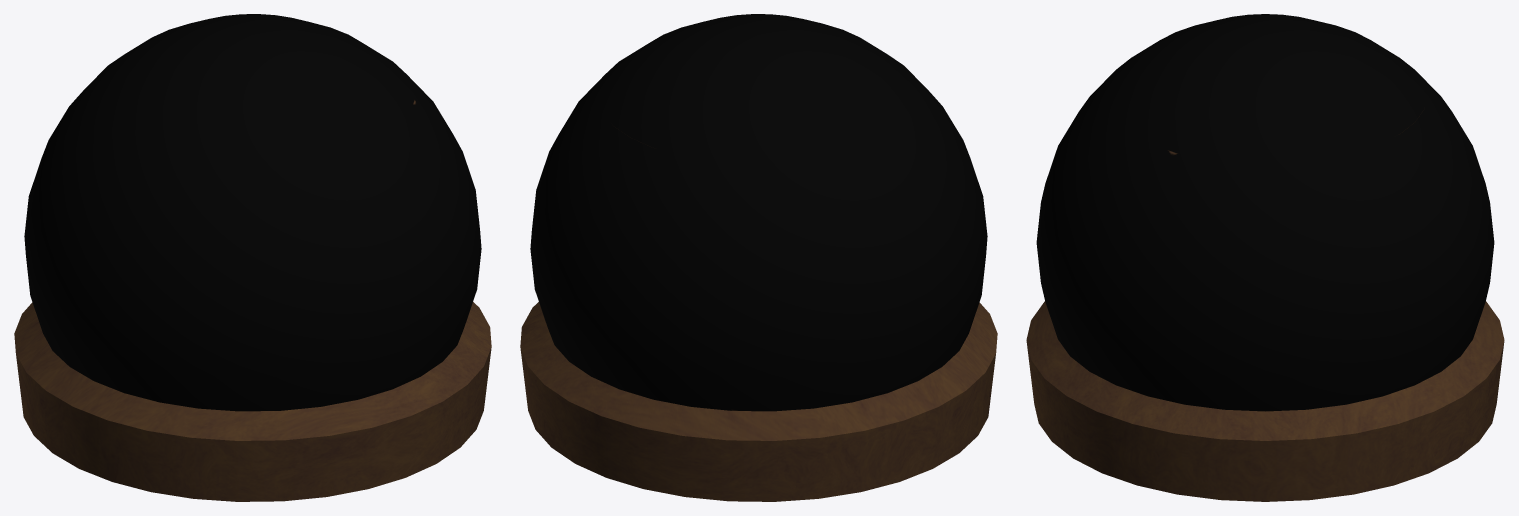
Rendered from snowg 1.fbx.
3 views of the same model, side by side, from view 1: azimuth 30°, elevation 25°; view 2: azimuth 150°, elevation 25°; view 3: azimuth 270°, elevation 25° (orthographic).
Parts seen in each view (by area): view 1: Sphere; view 2: Sphere; view 3: Sphere.
Boxes of the visible parts, x1,y1,x2,y2 form: Sphere: [14, 14, 491, 501]; Sphere: [520, 14, 997, 501]; Sphere: [1026, 14, 1504, 501].
Size of the model in its own units: 209 by 182 by 209.
